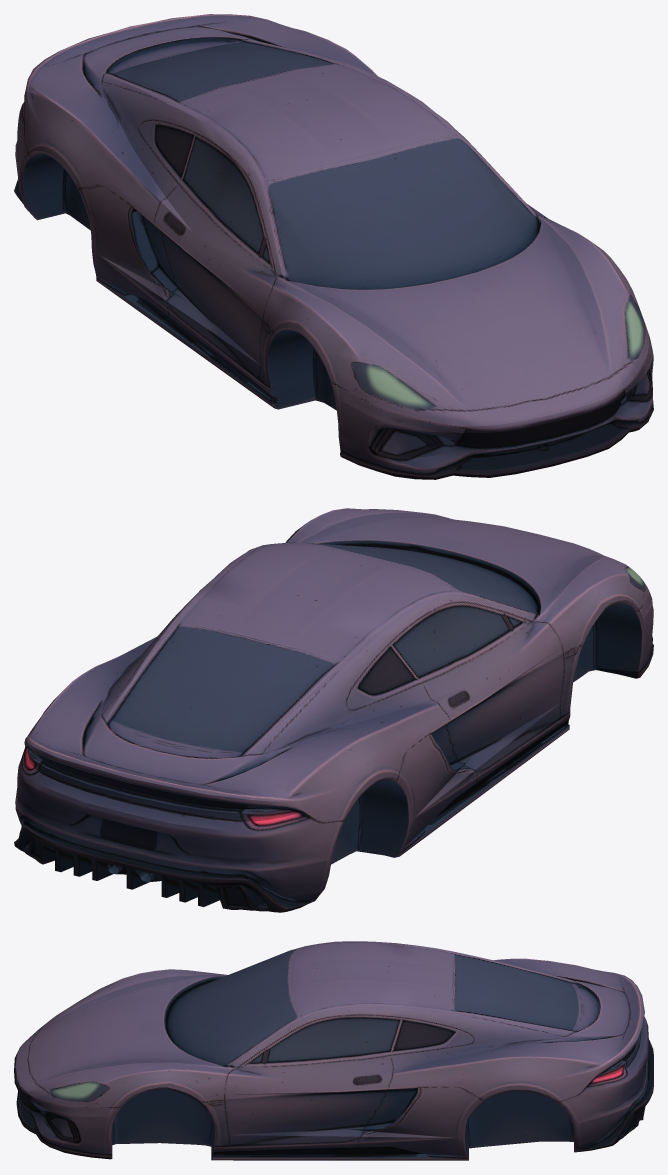
File: 4_Car2.glb
3 views of the same model, one above another, from view 1: azimuth 30°, elevation 25°; view 2: azimuth 150°, elevation 25°; view 3: azimuth 270°, elevation 25° (orthographic). The views are drawn at different scales.
Parts seen in each view (by area): view 1: part_0000.001; view 2: part_0000.001; view 3: part_0000.001.
Boxes of the visible parts, x1,y1,x2,y2 form: part_0000.001: (14, 14, 653, 479); part_0000.001: (14, 508, 653, 912); part_0000.001: (14, 941, 653, 1160).
Bounding box in the file's own units: 2.01 × 1.13 × 4.73.
1 material, 1 textured.
